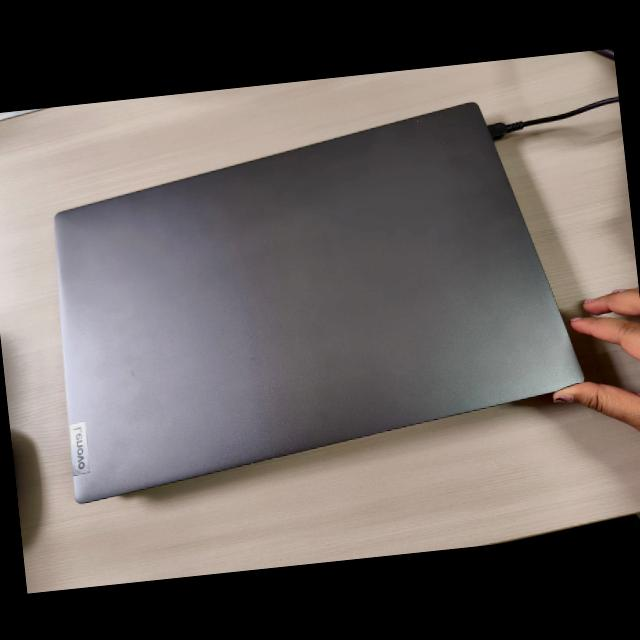laptop: (13, 86, 590, 512)
